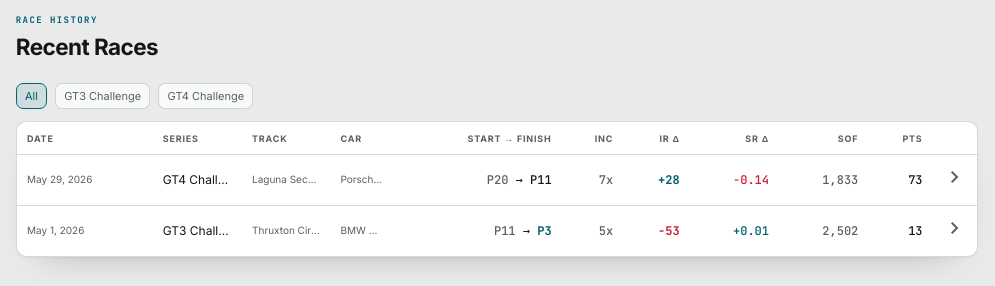
RacesPage › filters rows by series when a chip is selected
Expected: the link "Laguna Seca · Full Course" is shown, left=252, top=172, right=320, bottom=187
Click the GT3 Challenge chip (button, not the table cell).
Click the button "GT3 Challenge" at [103, 96], box left=55, top=83, right=150, bottom=109
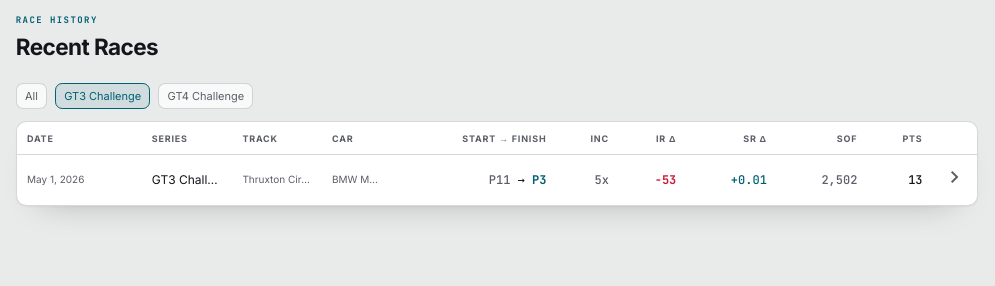
Expected: the link "Thruxton Circuit" is shown, left=242, top=172, right=312, bottom=187
Expected: the link "Laguna Seca" is gone
